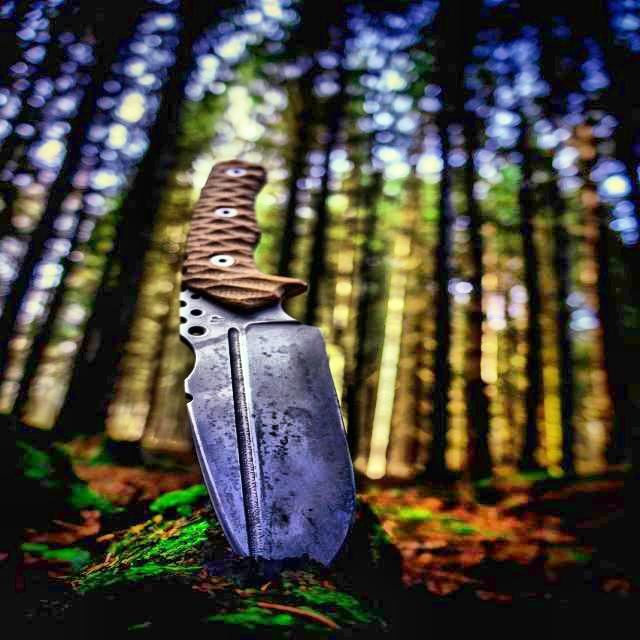knife: (171, 157, 365, 548)
